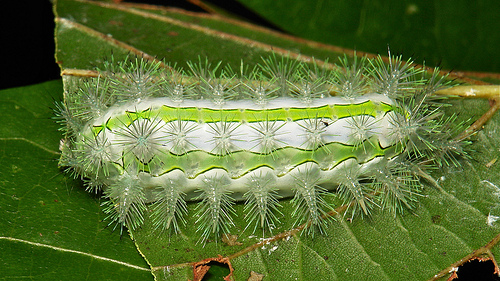Pest! (nettle_caterpillar): (46, 55, 454, 222)
